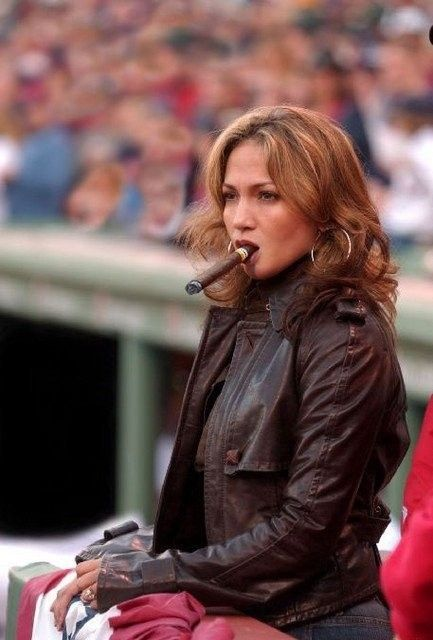cigarette: (180, 242, 257, 294)
